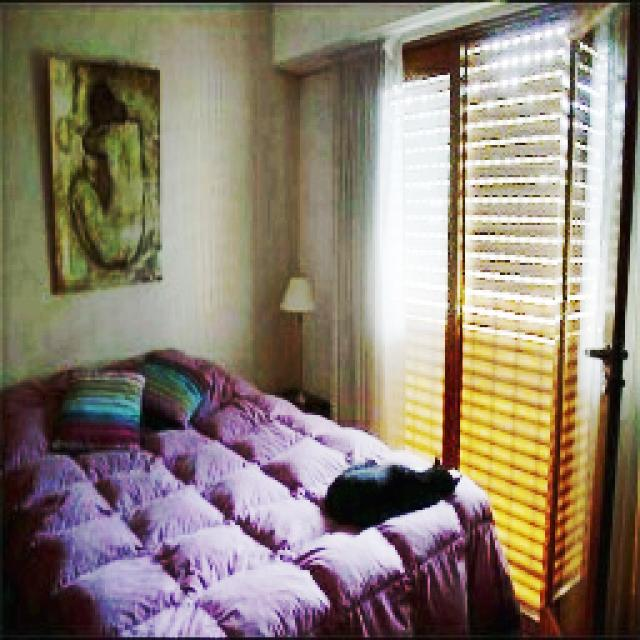cat: (325, 450, 464, 523)
